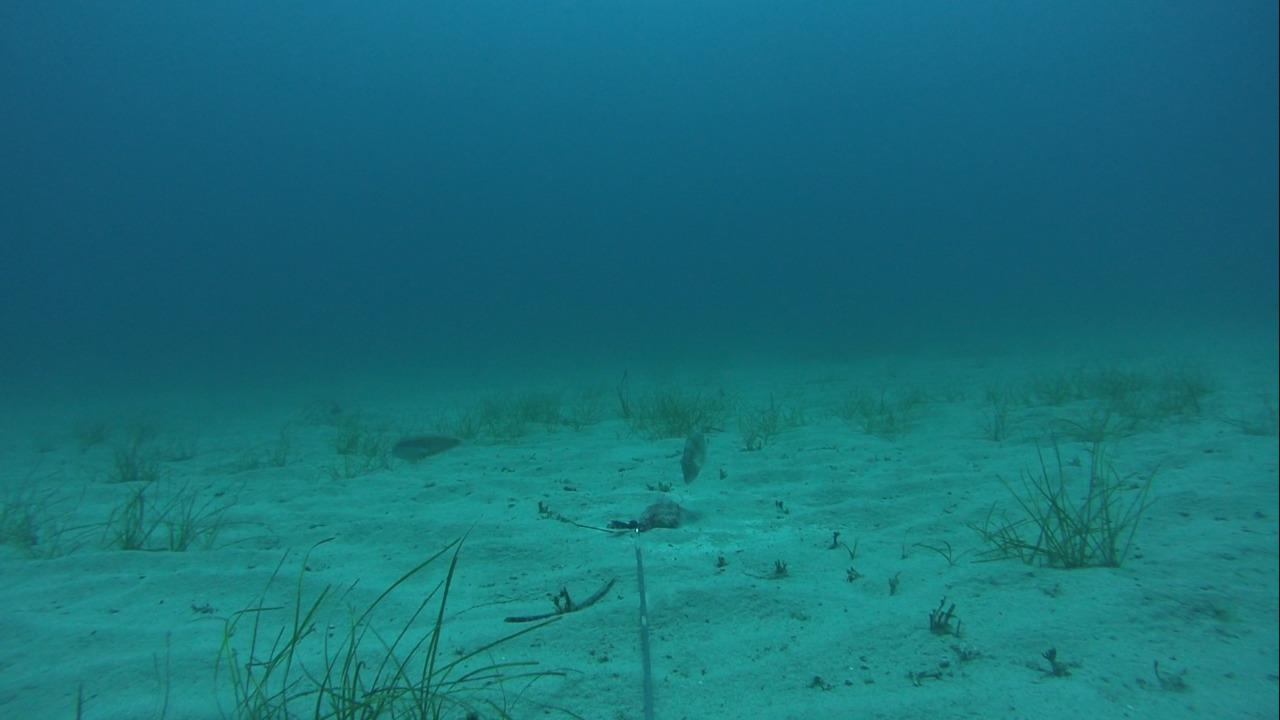raor: (384, 425, 469, 464), (675, 414, 712, 489)
